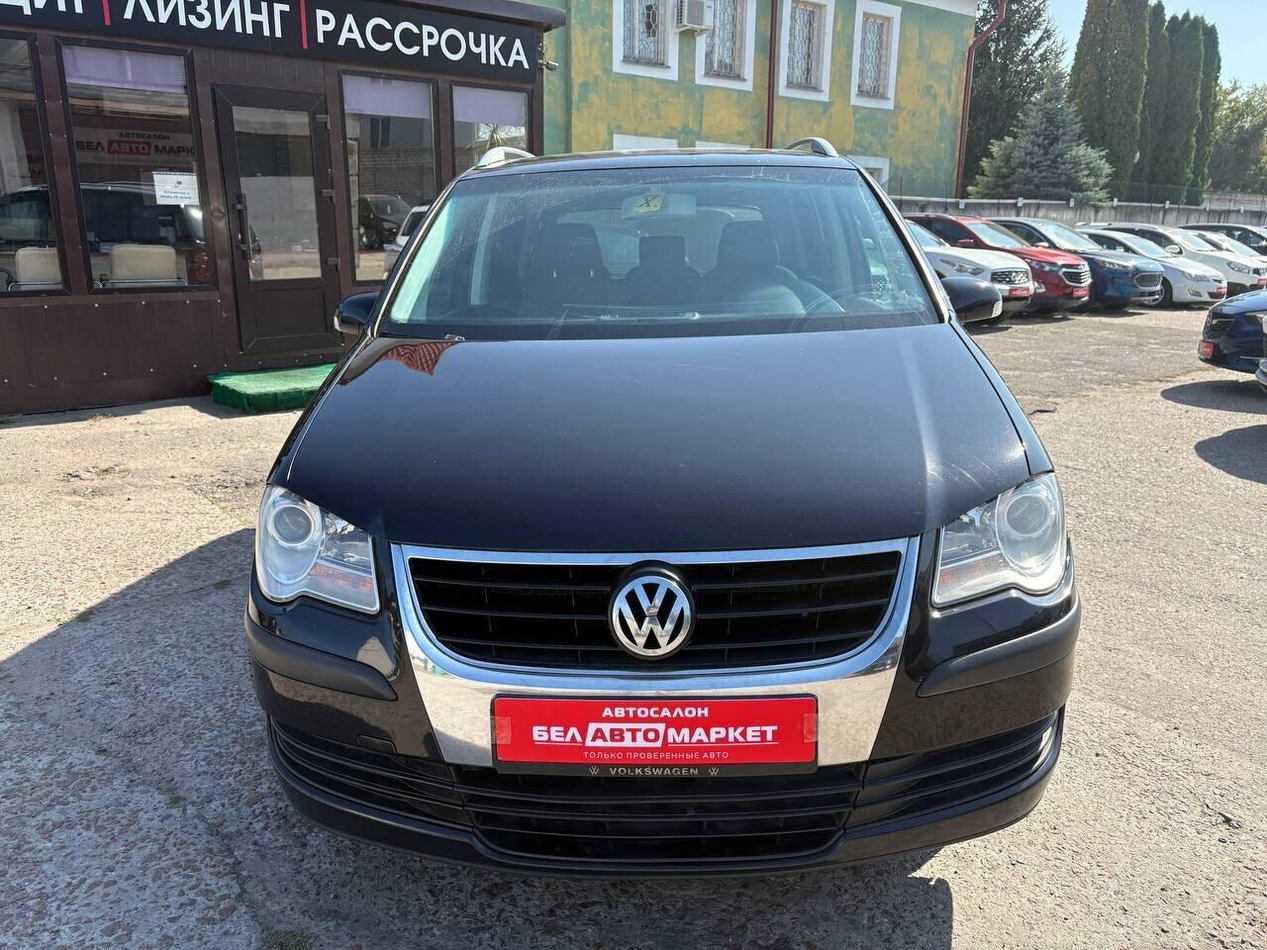Touran_2006-2010: (240, 145, 1086, 886)
